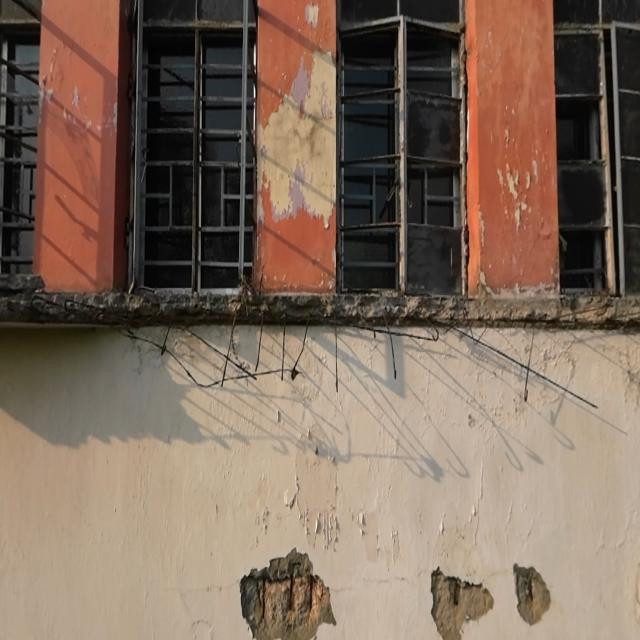peeling: (257, 56, 335, 220), (240, 549, 335, 639), (431, 568, 493, 639), (513, 564, 551, 625)
spalling: (0, 276, 640, 329)
